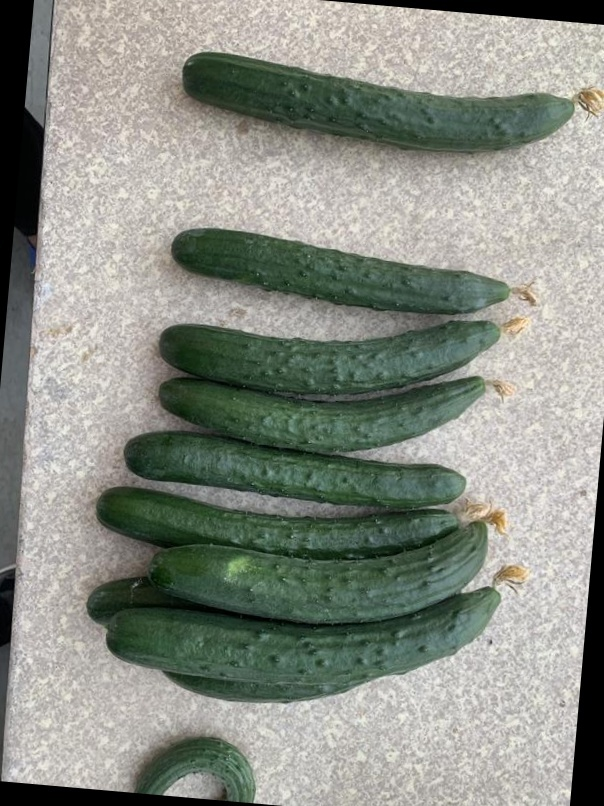mature: (180, 43, 578, 156), (143, 520, 494, 625), (103, 594, 512, 682), (167, 220, 512, 314), (123, 424, 464, 512), (157, 311, 508, 394), (91, 476, 456, 554), (158, 375, 502, 452)
